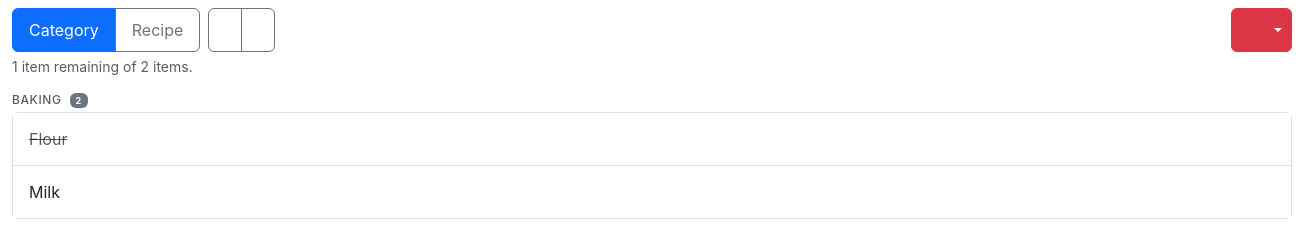
Test: ShoppingList › hides checked items when the hide toggle is enabled
What coordinates should you click on to do the following:
click the button named "Show To Buy items only"
I would click on:
 (225, 30)
Its box is [208,8,242,52].
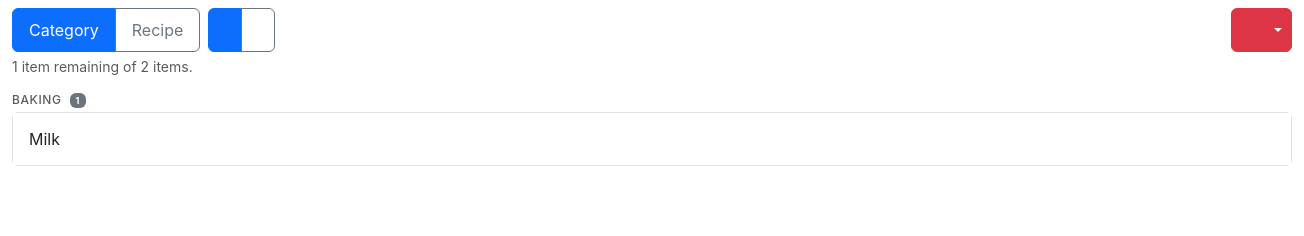
Expected: the text "Milk" is shown, [29,129,60,149]
Result: the text "Flour" is gone
What coordinates should you click on to do the following:
click the button named "Show To Buy items only"
I would click on:
 (225, 30)
Its box is [208,8,242,52].
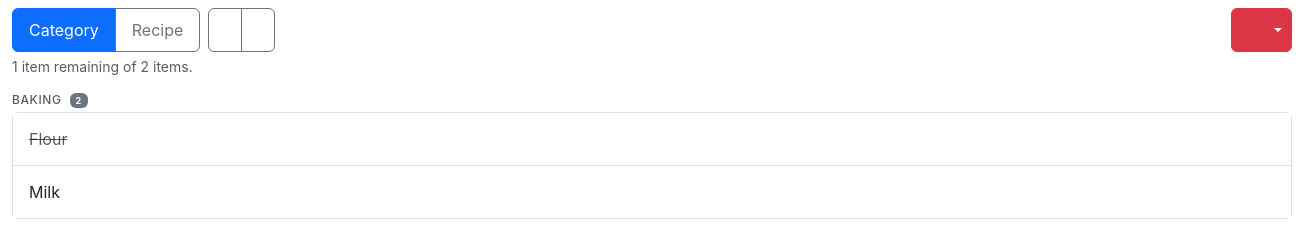
Expected: the text "Milk" is shown, [29,182,60,202]
Result: the text "Flour" is shown at [29,129,67,149]
